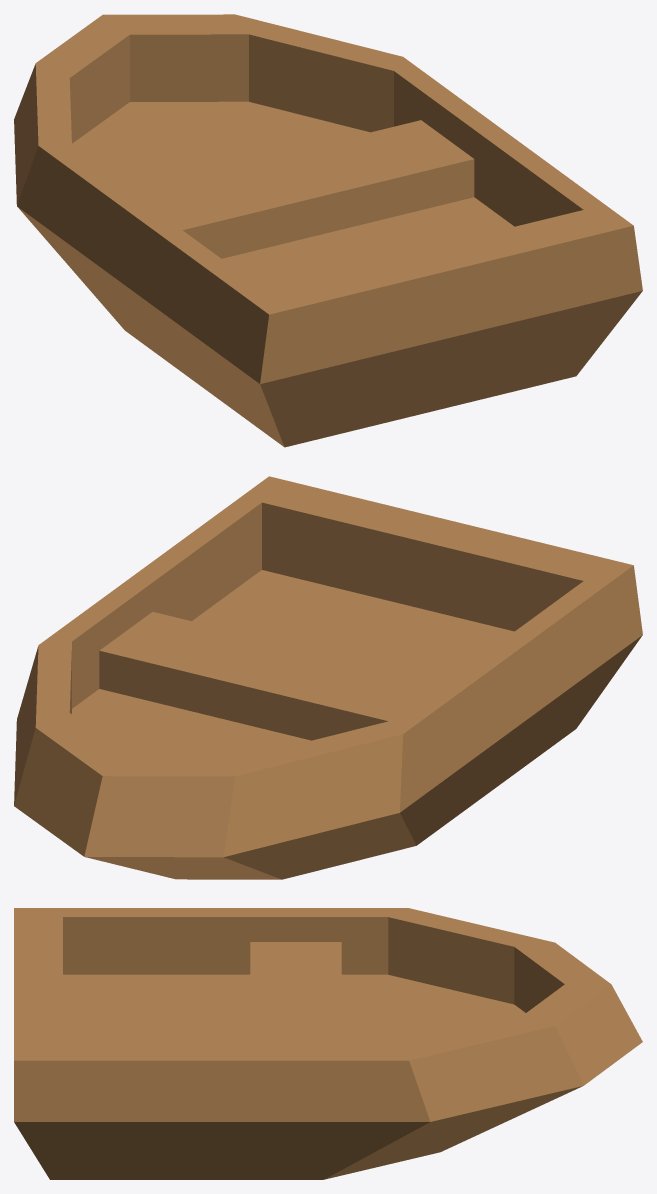
Rendered from boat_026.fbx.
3 renders of one model, top to bottom at view 1: azimuth 30°, elevation 25°; view 2: azimuth 150°, elevation 25°; view 3: azimuth 270°, elevation 25°, orthographic. The views are drawn at different scales.
Parts seen in each view (by area): view 1: boat_026; view 2: boat_026; view 3: boat_026.
Part boxes in pixels (x1=…): boat_026: x1=14, y1=14, x2=642, y2=447; boat_026: x1=14, y1=476, x2=642, y2=879; boat_026: x1=14, y1=908, x2=642, y2=1179.
Size of the model in its own units: 17.85 by 7 by 29.65.
